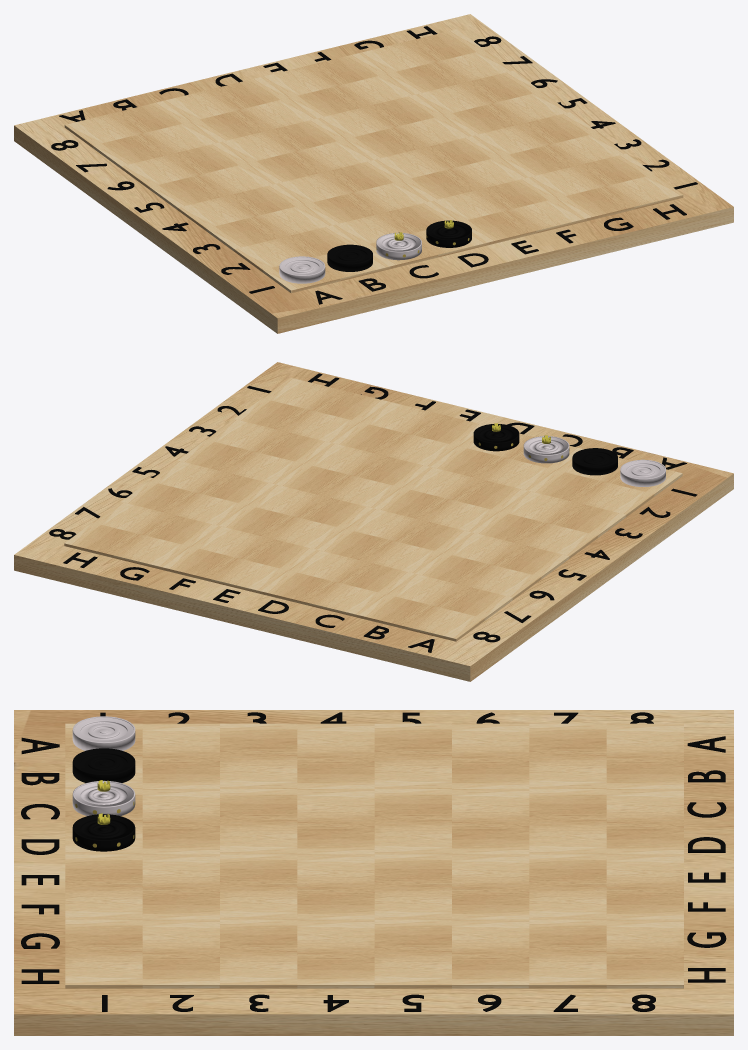
The model's file is shashki.glb.
3 renders of one model, top to bottom at view 1: azimuth 30°, elevation 25°; view 2: azimuth 150°, elevation 25°; view 3: azimuth 270°, elevation 25°, orthographic. The views are drawn at different scales.
Visible parts, largest first — view 1: Куб.064, G1, H1, F1, E1, A5, A3, A7, A8, A6, A4, Текст (+61 smaller); view 2: Куб.064, A8, D8, G8, F8, E8, H8, C8, B8, A5, A7, A2 (+58 smaller); view 3: Куб.064, H1, H2, H3, H4, H5, H6, H7, H8, G1, G4, D4 (+61 smaller).
Part boxes in pixels (x1,y1,x2,y2): Куб.064: [14, 14, 733, 333]; G1: [557, 186, 634, 221]; H1: [606, 174, 683, 209]; F1: [508, 198, 585, 233]; E1: [460, 210, 536, 245]; A5: [149, 175, 226, 210]; A3: [206, 216, 282, 251]; A7: [93, 133, 169, 168]; A8: [64, 113, 141, 147]; A6: [121, 154, 197, 189]; A4: [178, 196, 254, 230]; Текст: [315, 204, 686, 304]; Куб.064: [14, 362, 733, 681]; A8: [407, 606, 484, 641]; D8: [260, 570, 337, 605]; G8: [113, 534, 190, 569]; F8: [162, 546, 239, 581]; E8: [211, 558, 288, 593]; H8: [64, 522, 140, 557]; C8: [309, 582, 386, 617]; B8: [358, 594, 434, 629]; A5: [492, 544, 569, 579]; A7: [436, 585, 512, 620]; A2: [577, 482, 654, 516]; Куб.064: [14, 710, 733, 1035]; H1: [65, 952, 142, 988]; H2: [142, 952, 219, 988]; H3: [220, 952, 297, 988]; H4: [297, 952, 374, 988]; H5: [374, 952, 451, 988]; H6: [452, 952, 529, 988]; H7: [529, 952, 606, 988]; H8: [606, 952, 683, 988]; G1: [65, 919, 142, 952]; G4: [297, 919, 374, 952]; D4: [297, 821, 374, 854].
Size of the model in its own units: 23 by 1.83 by 23.
10 materials, 3 textured.
